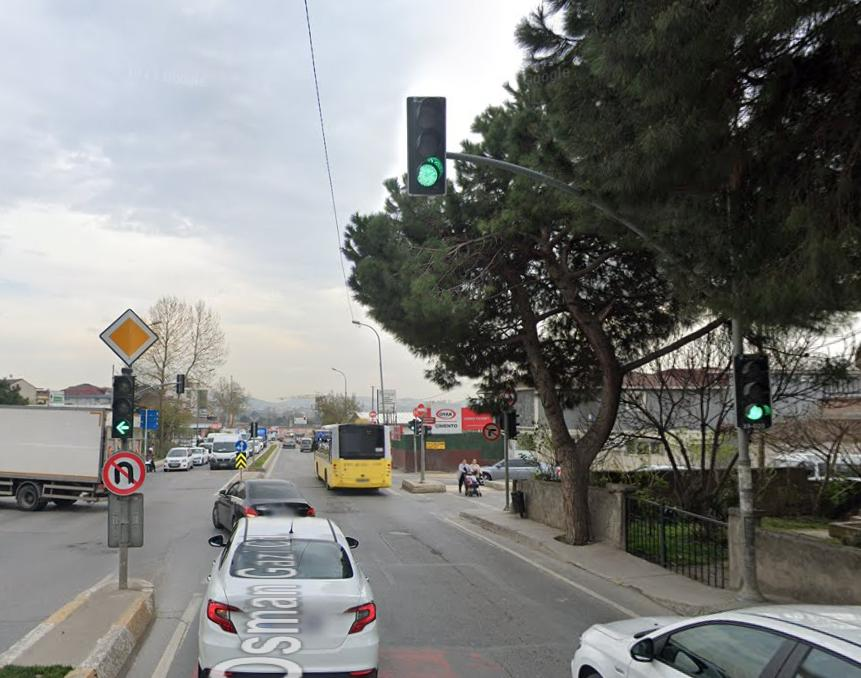greenlight: (410, 97, 445, 192), (737, 354, 768, 419), (115, 376, 132, 434)
rightturnsareforbidden: (482, 423, 500, 441)
